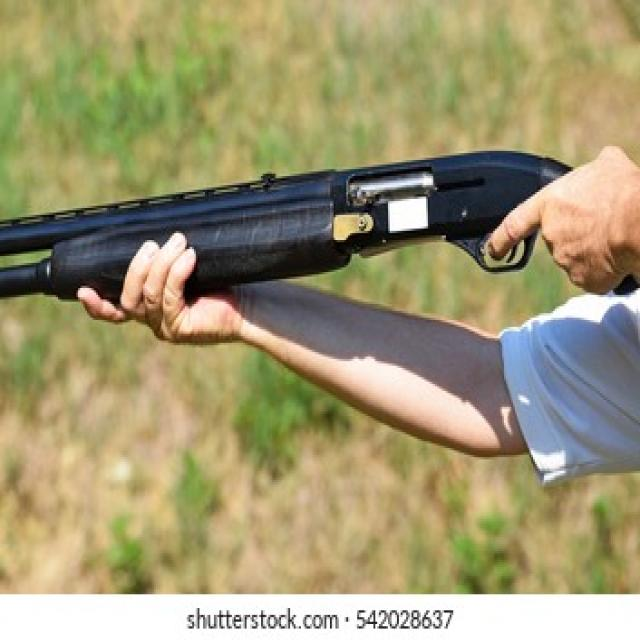ShotGun: (0, 151, 575, 306)
